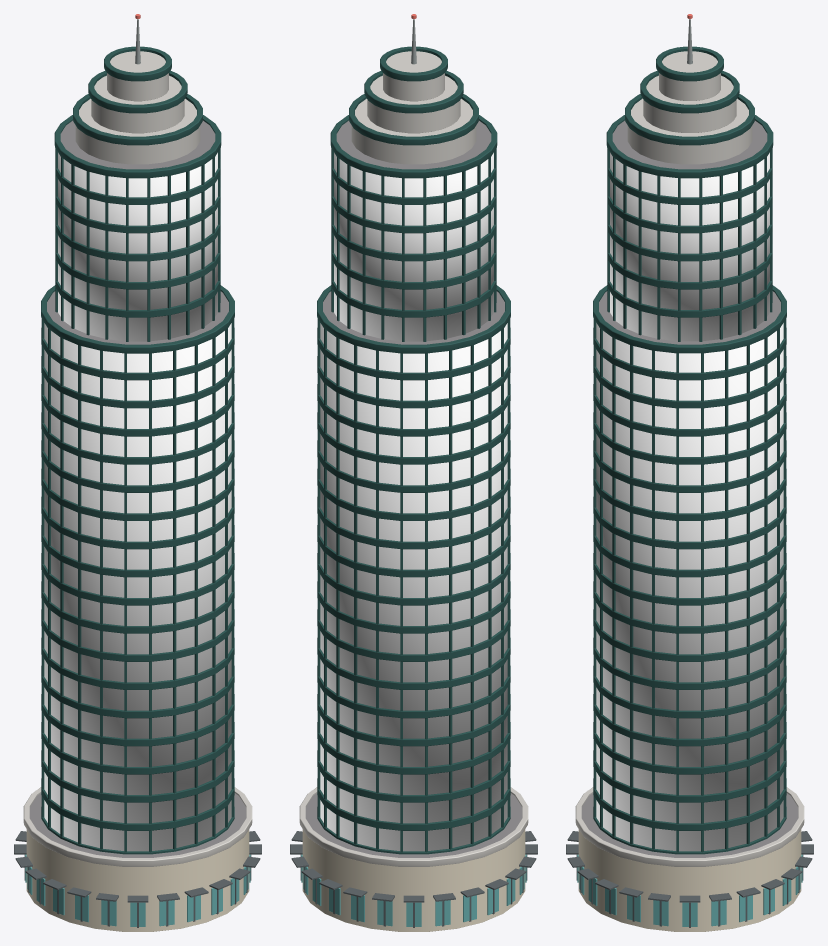
File: tower_round_rings.glb
3 renders of one model, left to right at view 1: azimuth 30°, elevation 25°; view 2: azimuth 150°, elevation 25°; view 3: azimuth 270°, elevation 25°, orthographic.
Visible parts, largest first — view 1: curtain, tower trim, mullions, tower props; view 2: curtain, tower trim, mullions, tower props; view 3: curtain, tower trim, mullions, tower props.
Part boxes in pixels (x1,y1,x2,y2): curtain: (44,152,231,851); tower trim: (23,46,252,931); mullions: (24,148,251,927); tower props: (14,14,261,926); curtain: (320,152,507,851); tower trim: (299,46,528,931); mullions: (300,148,527,927); tower props: (290,14,537,926); curtain: (596,152,783,851); tower trim: (575,46,804,931); mullions: (576,148,803,927); tower props: (566,14,813,926).
Bounding box in the file's own units: 28.71 × 111 × 28.71.
